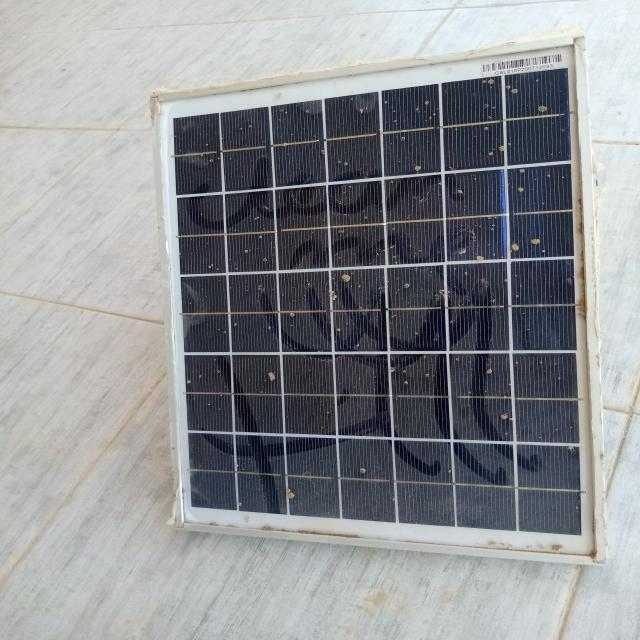faulty: (153, 40, 601, 562)
